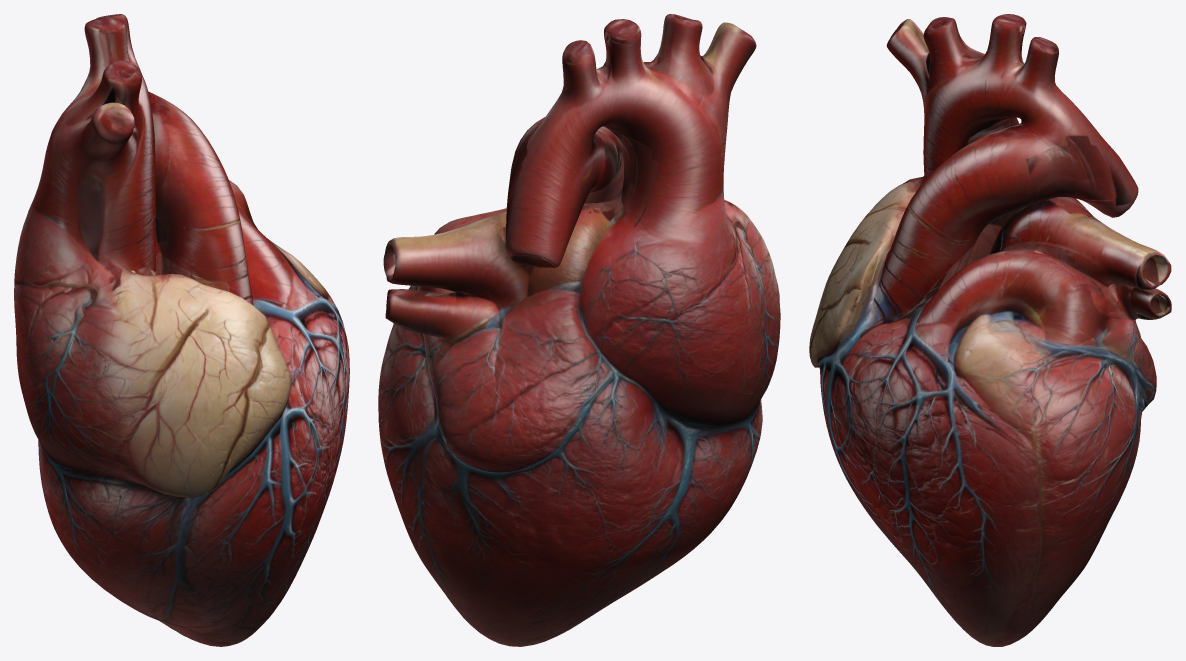
Rendered from heart.glb.
The picture shows the model from 3 angles, left to right: view 1: azimuth 30°, elevation 25°; view 2: azimuth 150°, elevation 25°; view 3: azimuth 270°, elevation 25°; orthographic projection. The views are drawn at different scales.
Parts seen in each view (by area): view 1: Stylized Human Heart; view 2: Stylized Human Heart; view 3: Stylized Human Heart.
Boxes of the visible parts, x1=… form: Stylized Human Heart: x1=14, y1=14, x2=349, y2=646; Stylized Human Heart: x1=378, y1=14, x2=780, y2=646; Stylized Human Heart: x1=809, y1=14, x2=1171, y2=646.
Size of the model in its own units: 2.47 by 4.62 by 2.64.
1 material, 1 textured.
